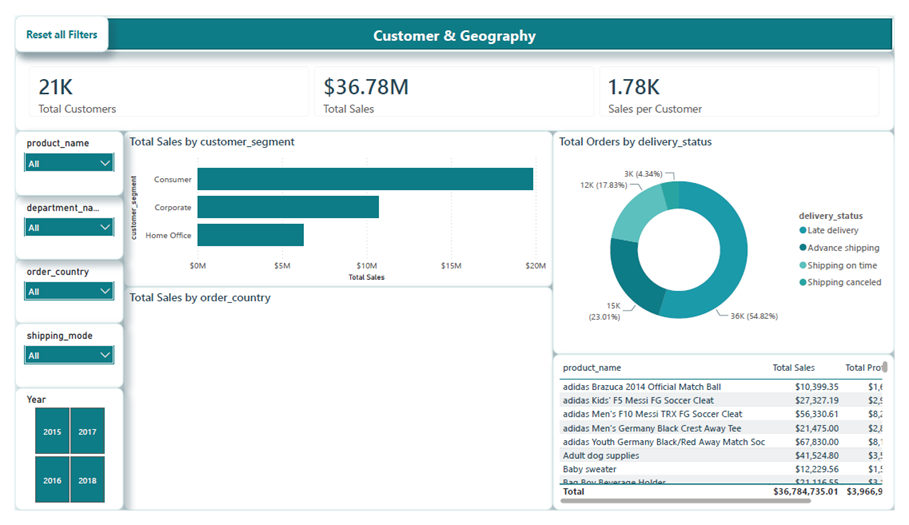

What the dashboard file says about the page in this screenshot:
{"tool":"powerbi","page":{"name":"Customer & Geography","canvas":[1280,720],"ordinal":4},"visuals":[{"type":"cardVisual","fields":{"Data":["fact_order_line.Total Customers","fact_order_line.Total Sales","fact_order_line.Sales per Customer"]},"box":[0,53.3,1280,115],"z":0},{"type":"barChart","fields":{"Category":["dim_customer.customer_segment"],"Y":["fact_order_line.Total Sales"]},"box":[158.3,168.3,625,226.7],"z":1000},{"type":"shape","title":"Sale and demans","box":[0,0,1280,53.3],"z":2000},{"type":"esriVisual","fields":{"Location":["dim_geo.order_country"],"Size":["fact_order_line.Total Sales"]},"box":[158.3,395,625,325],"z":3000},{"type":"donutChart","fields":{"Category":["fact_order_line.delivery_status"],"Y":["fact_order_line.Total Orders"]},"box":[783.3,168.3,496.7,325],"z":4000},{"type":"tableEx","fields":{"Values":["dim_product.product_name","fact_order_line.Total Sales","fact_order_line.Total Profit","fact_order_line.Profit Margin"]},"box":[783.3,493.3,496.7,226.7],"z":5000},{"type":"actionButton","box":[0,0,116.7,53.3],"z":9000},{"type":"slicer","fields":{"Values":["dim_geo.order_country"]},"box":[0,355,158.3,93.3],"z":9125},{"type":"slicer","fields":{"Values":["dim_shipping_mode.shipping_mode"]},"box":[0,448.3,158.3,93.3],"z":9312},{"type":"slicer","fields":{"Values":["dim_date.full_date.Variation.Date Hierarchy.Year"]},"box":[0,541.7,158.3,178.3],"z":9500},{"type":"slicer","fields":{"Values":["dim_product.department_name"]},"box":[0,261.7,158.3,93.3],"z":10000},{"type":"slicer","fields":{"Values":["dim_product.product_name"]},"box":[0,168.3,158.3,93.3],"z":11000}]}

Visuals, with their boxes in screenshot pixels (x1, y1, x2, y2), scaled from the page's 1280x720 canvas onto the 909x525 screenshot:
cardVisual - fact_order_line.Total Customers x fact_order_line.Total Sales: Rect(0, 39, 908, 123)
barChart - dim_customer.customer_segment x fact_order_line.Total Sales: Rect(112, 123, 556, 288)
"Sale and demans" shape: Rect(0, 0, 908, 39)
esriVisual - dim_geo.order_country x fact_order_line.Total Sales: Rect(112, 288, 556, 524)
donutChart - fact_order_line.delivery_status x fact_order_line.Total Orders: Rect(556, 123, 908, 360)
tableEx - dim_product.product_name x fact_order_line.Total Sales: Rect(556, 360, 908, 524)
actionButton: Rect(0, 0, 83, 39)
slicer - dim_geo.order_country: Rect(0, 259, 112, 327)
slicer - dim_shipping_mode.shipping_mode: Rect(0, 327, 112, 395)
slicer - dim_date.full_date.Variation.Date Hierarchy.Year: Rect(0, 395, 112, 524)
slicer - dim_product.department_name: Rect(0, 191, 112, 259)
slicer - dim_product.product_name: Rect(0, 123, 112, 191)
